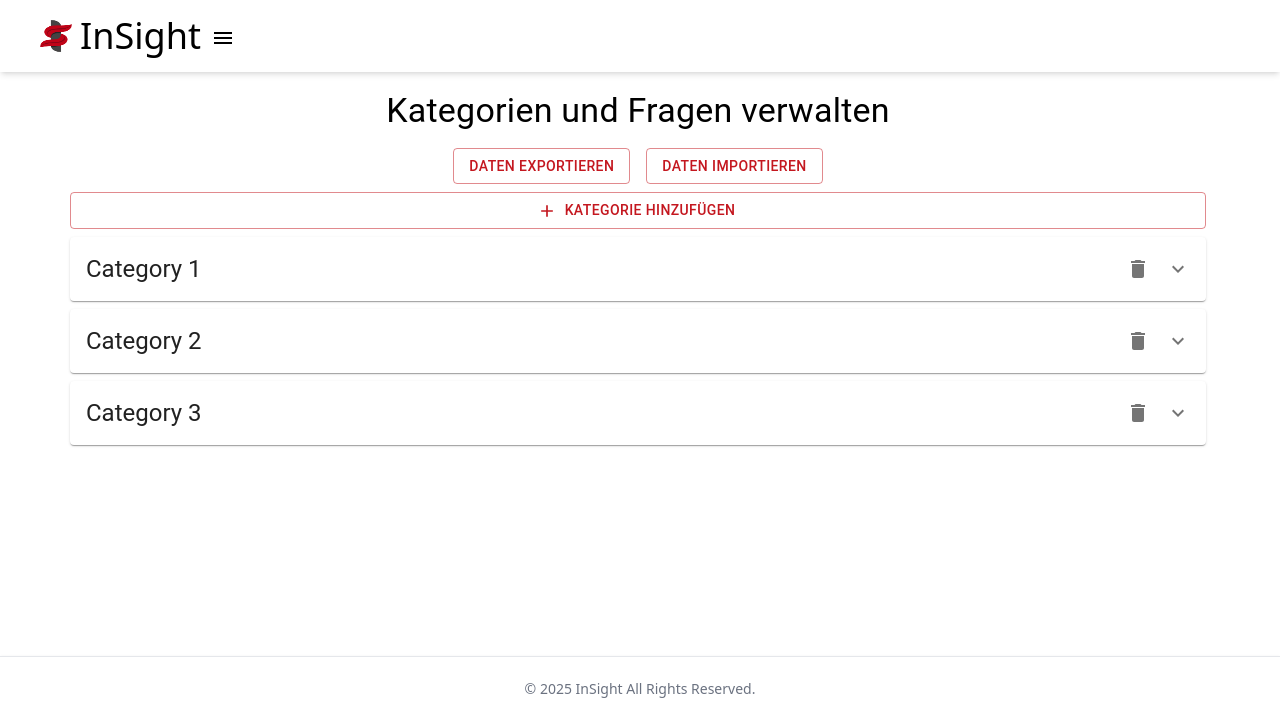
Scenario: ManageCategoriesAndQuestions Page › Import functionality › should show file input when clicking the "Daten importieren" button
Step 1. Click the button with test id "ImportQuestionsButton" → coordinates (734, 167), box [646,148,822,185]
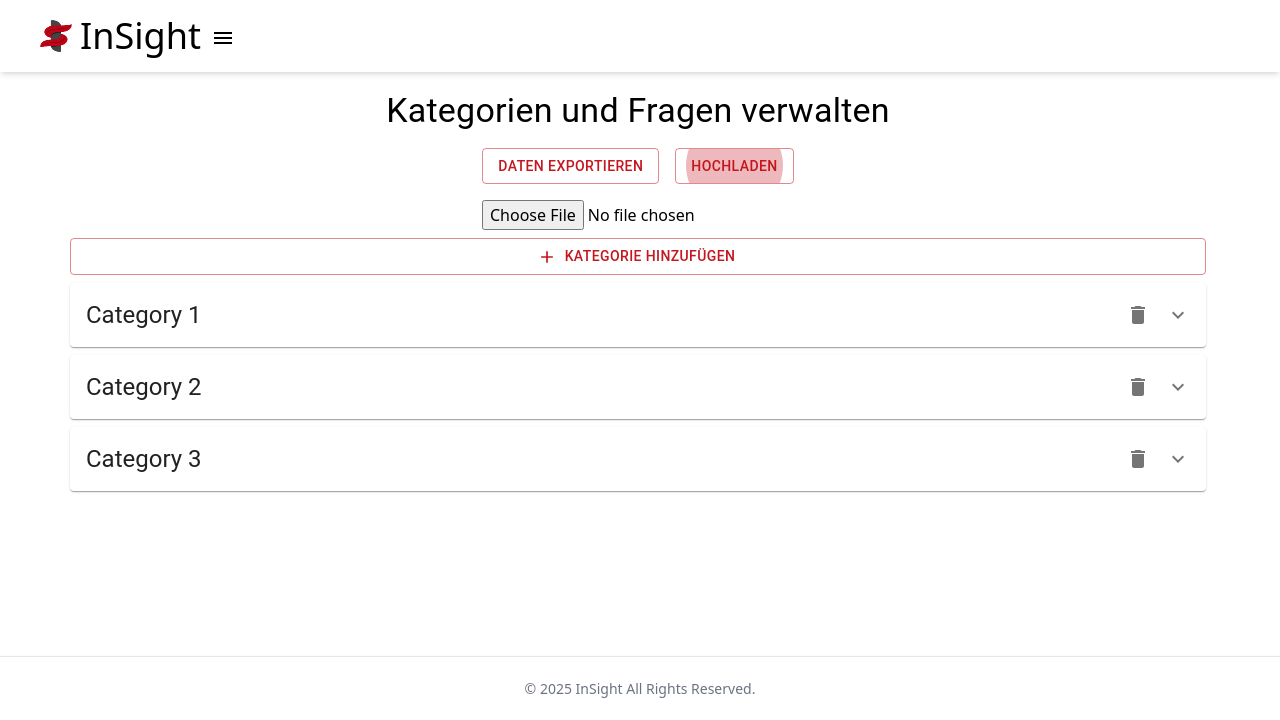
Expected: the file field is shown, [482,201,794,231]
Expected: the button with test id "ImportQuestionsButton" reads "Hochladen", [675,148,793,185]
